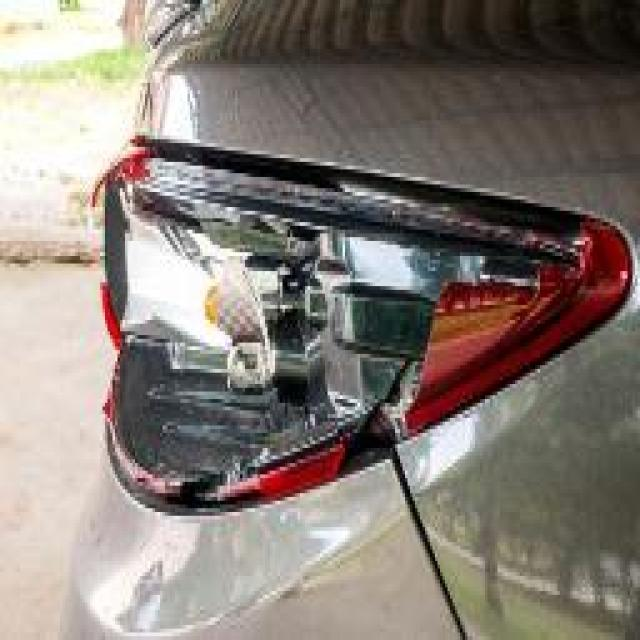Light: (100, 166, 582, 467)
